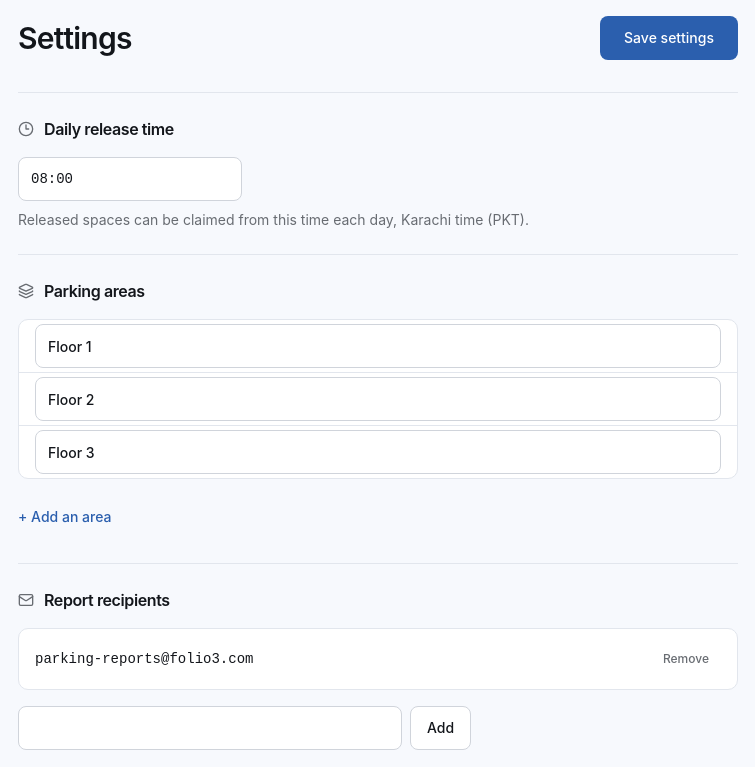
parking administration acceptance › AC_22_2_DisplaysTheConfigurationReturnedAfterAnAcceptedChange
Replace the text in the field named "daily release time" with "09:30" at (130, 179), box [18,157,242,201]
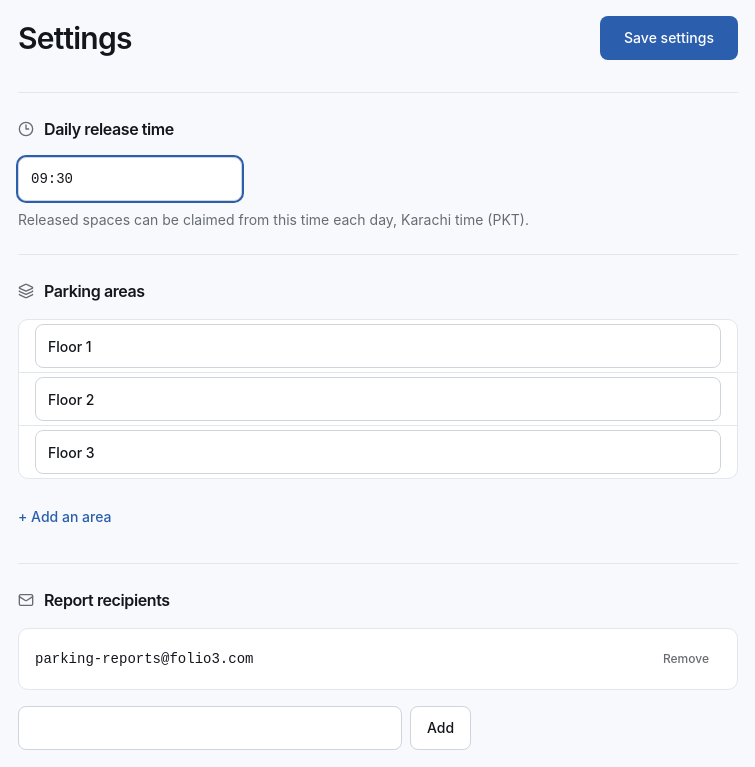
Click the button "Save settings" at (669, 38), box [600,16,738,60]
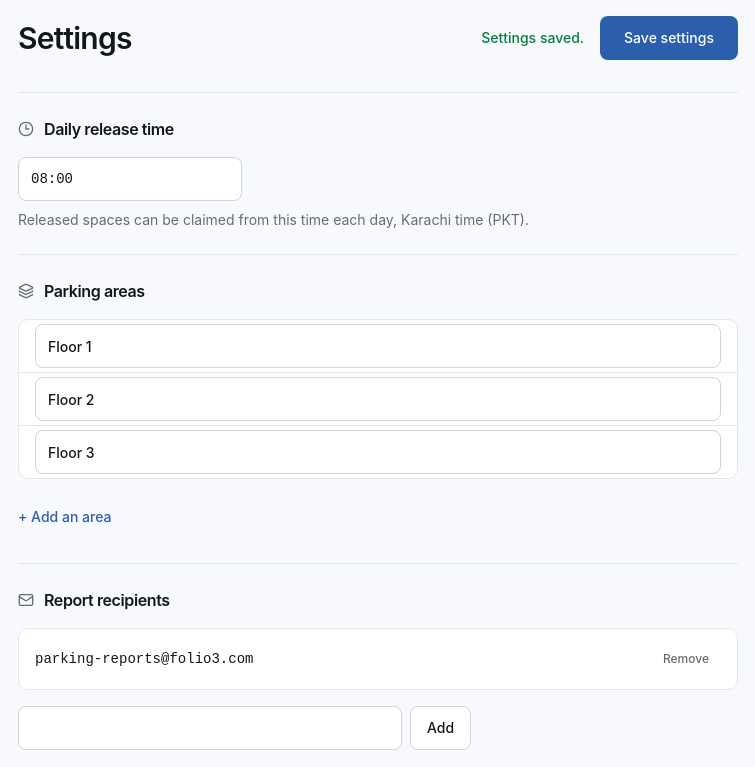
Expected: the field showing "09:30" is not shown
Result: the text "Settings saved." is shown at [481,28,584,48]
Result: the field showing "08:00" is shown at [18,157,242,201]
